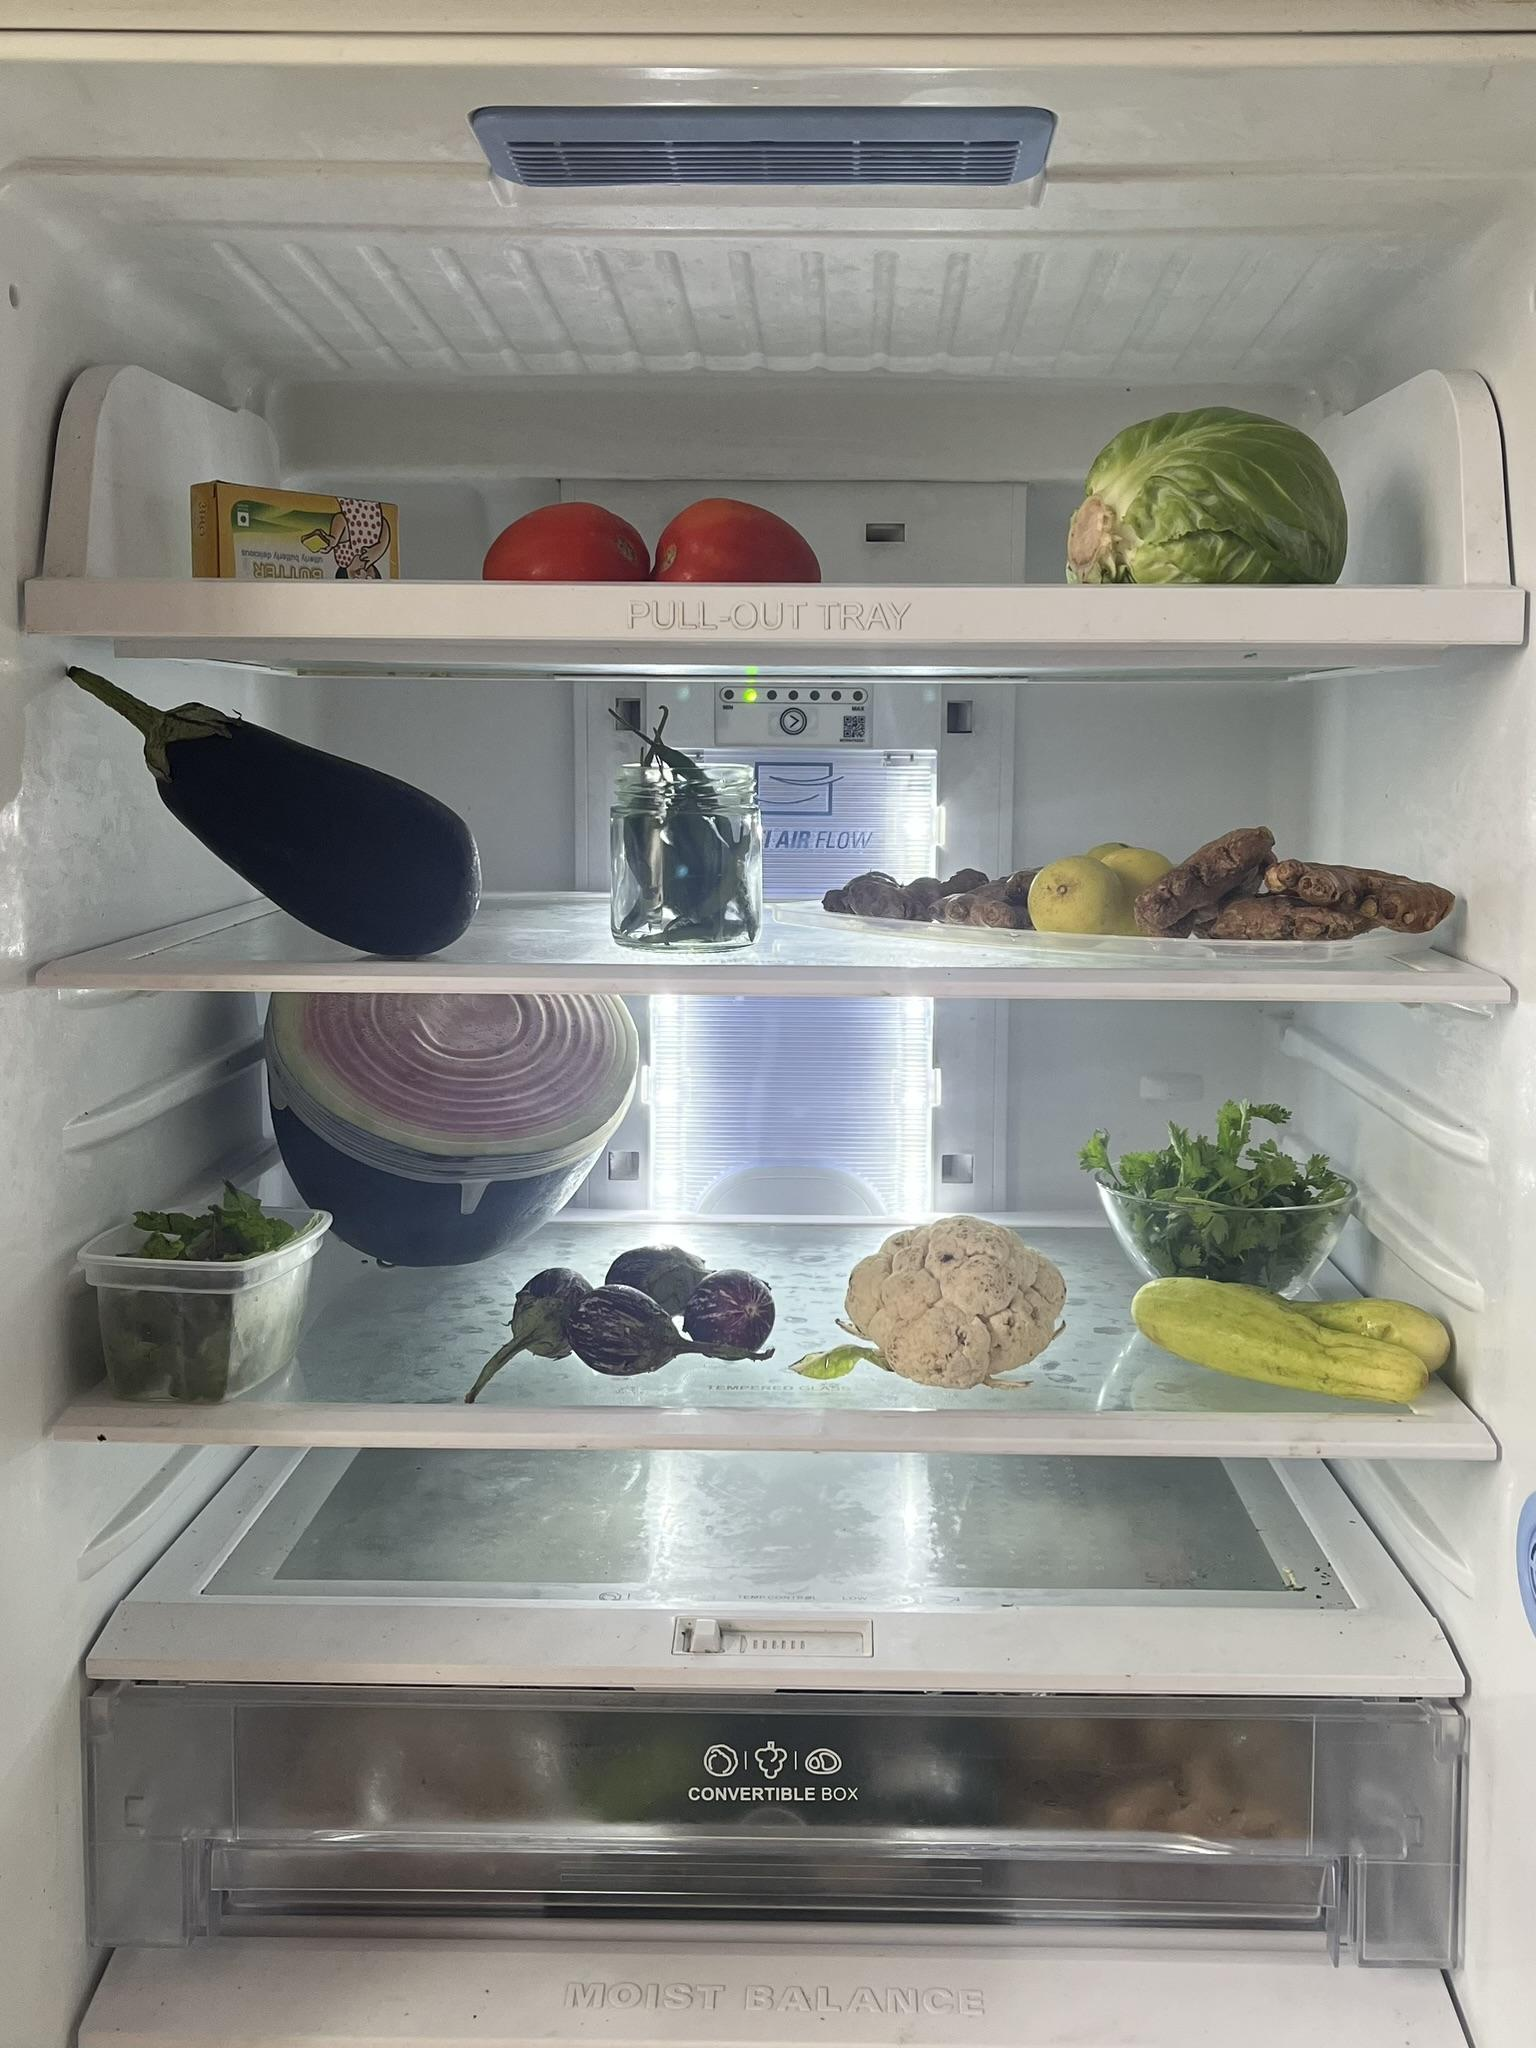basil: (87, 1203, 334, 1393)
bringal: (63, 650, 487, 959), (476, 1240, 784, 1387)
butter: (184, 466, 400, 581)
cabbage: (1047, 406, 1363, 584)
cauliflower: (826, 1209, 1076, 1384)
chillies: (603, 697, 770, 943)
coriander: (1087, 1090, 1354, 1293)
cucumber: (1133, 1263, 1450, 1403)
ginger: (1154, 824, 1460, 943), (826, 866, 1029, 927)
lemon: (1029, 840, 1183, 937)
tomato: (473, 493, 663, 577), (647, 497, 823, 581)
watermelon: (263, 997, 644, 1266)
